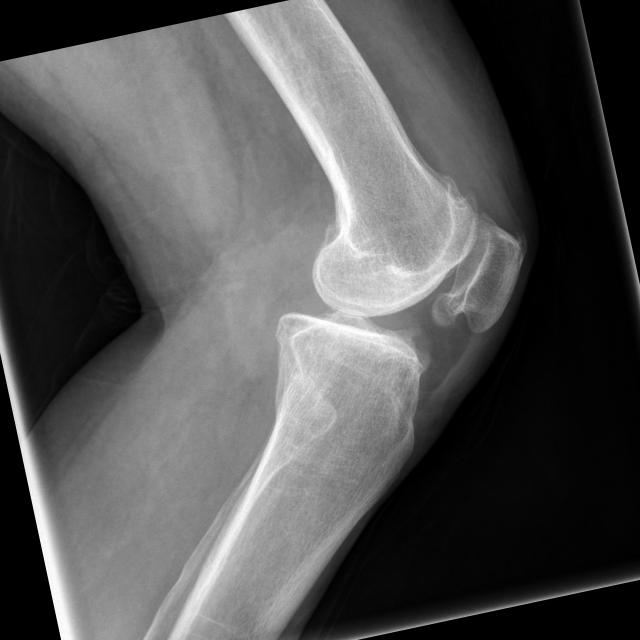Knee: (244, 173, 556, 439)
